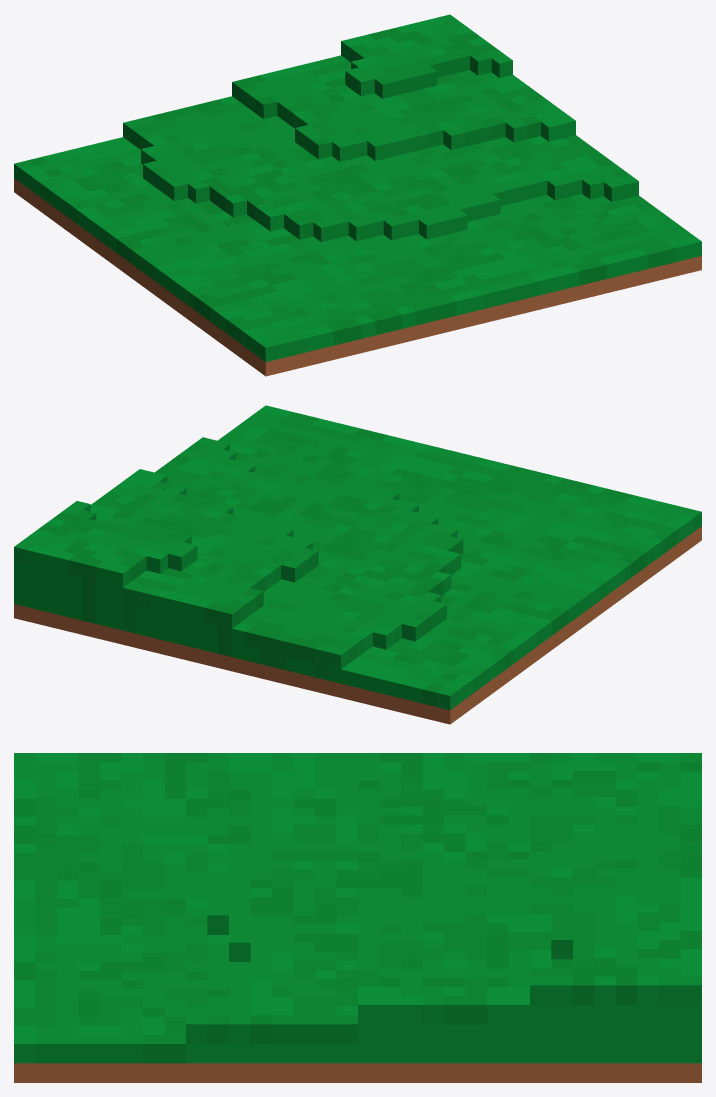
The model's file is forest-uneven-edge-outer-3.gltf.
3 renders of one model, top to bottom at view 1: azimuth 30°, elevation 25°; view 2: azimuth 150°, elevation 25°; view 3: azimuth 270°, elevation 25°, orthographic. The views are drawn at different scales.
Visible parts, largest first — view 1: forest-uneven-edge-outer-3; view 2: forest-uneven-edge-outer-3; view 3: forest-uneven-edge-outer-3.
Boxes of the visible parts, x1,y1,x2,y2 form: forest-uneven-edge-outer-3: [14, 14, 701, 376]; forest-uneven-edge-outer-3: [14, 405, 701, 724]; forest-uneven-edge-outer-3: [14, 753, 701, 1082].
Bounding box in the file's own units: 3.2 × 0.5 × 3.2.
Materials: 1 (1 with a texture image).
